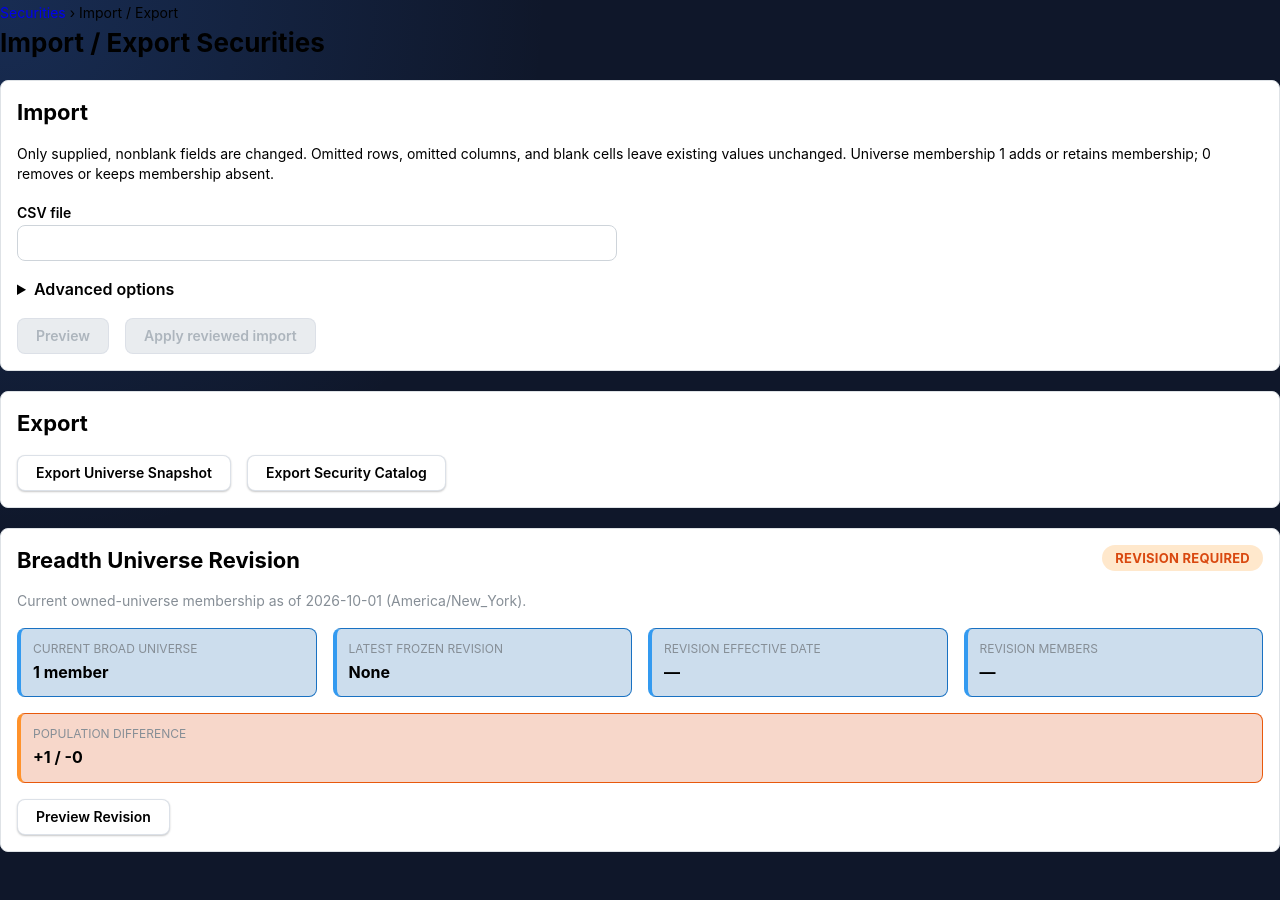
Test: Securities import/export review › refetches persisted CURRENT status after explicit freeze
What coordinates should you click on to do the following:
click the button "Preview Revision"
I would click on:
 (93, 817)
Its box is [17,799,170,835].
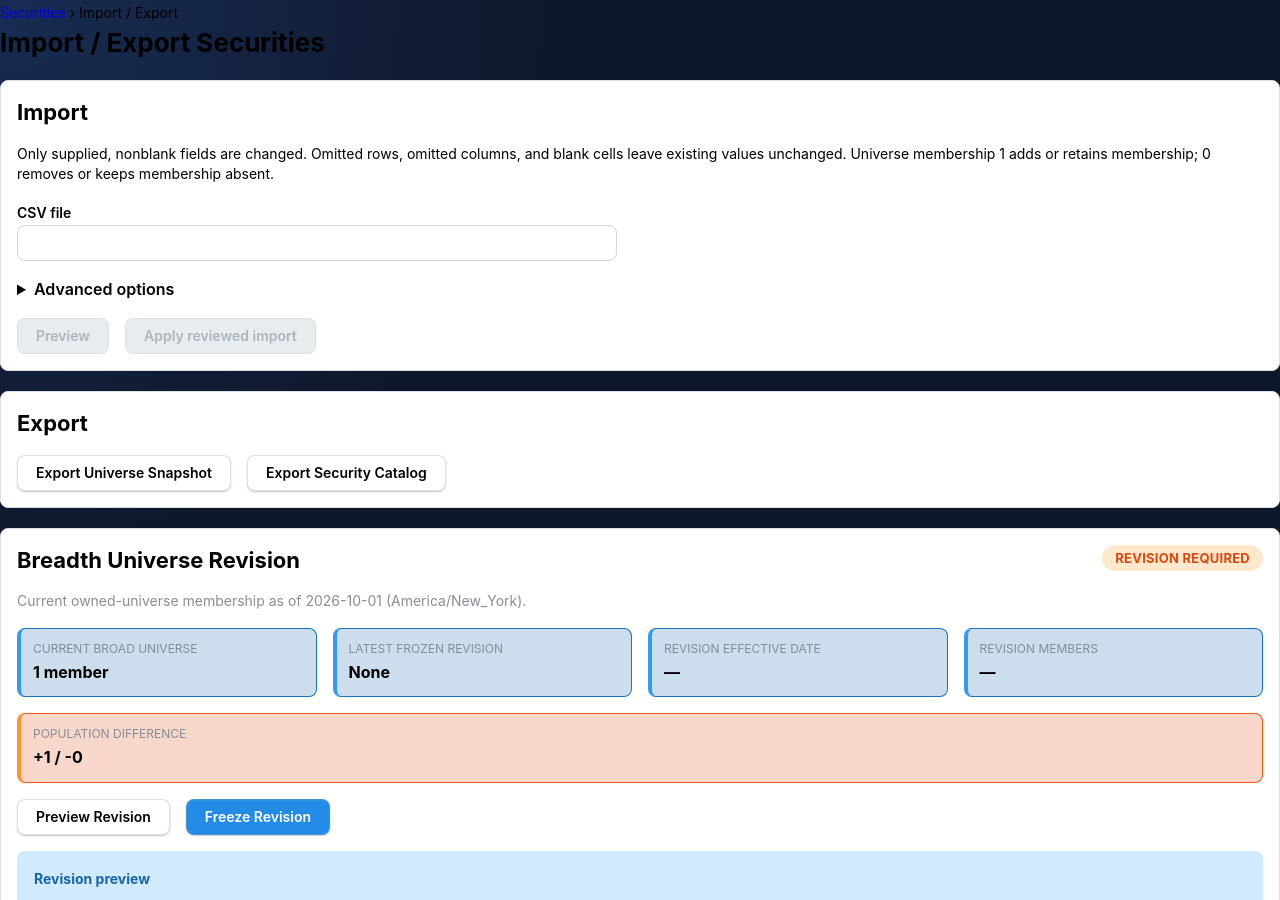
Expected: the button "Freeze Revision" is shown
What coordinates should you click on to do the following:
click the button "Freeze Revision"
I would click on:
 (258, 817)
Its box is [186,799,330,835].
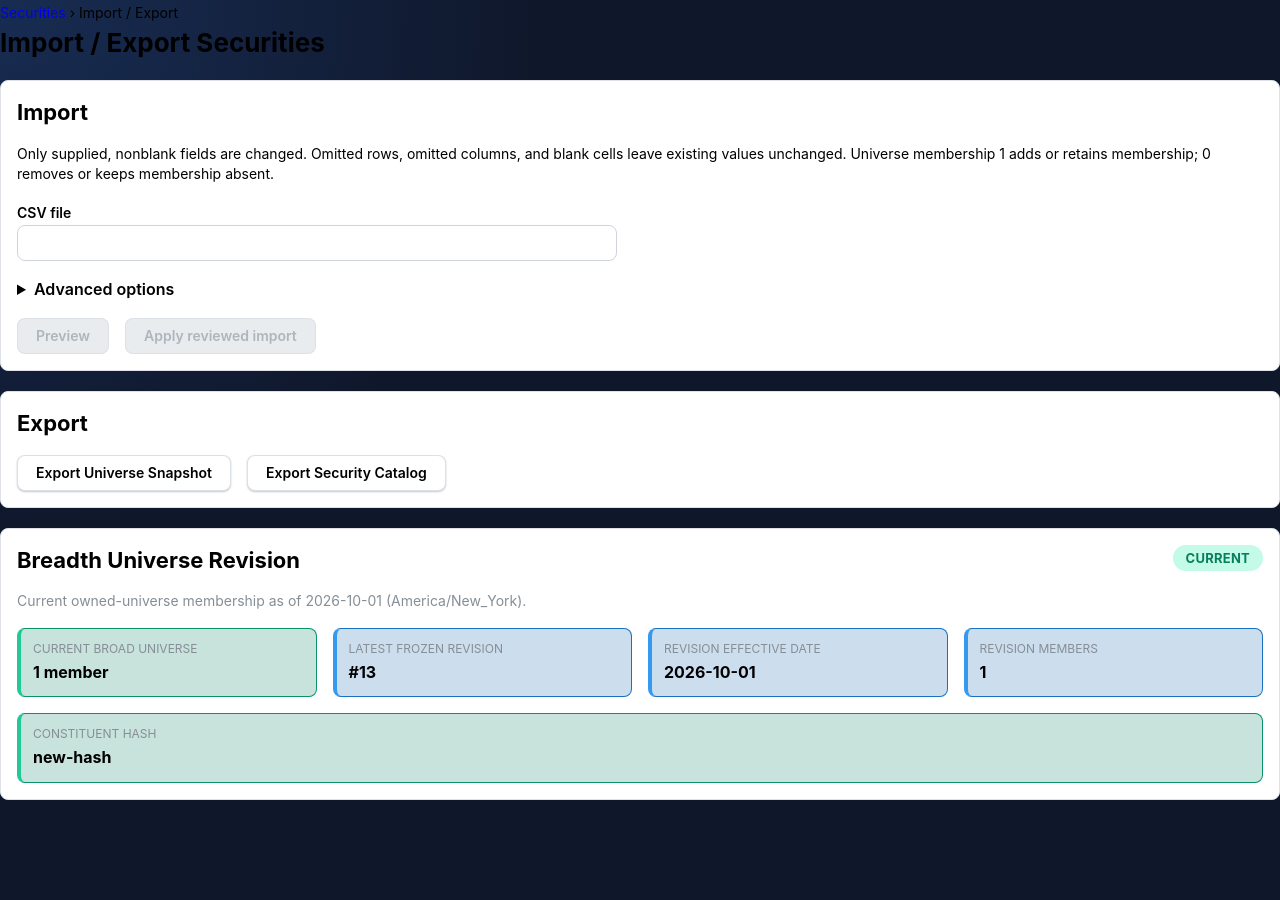
Expected: the text "CURRENT" is shown, [1186,546,1250,570]
Expected: the text "#13" is shown, [348,662,376,682]
